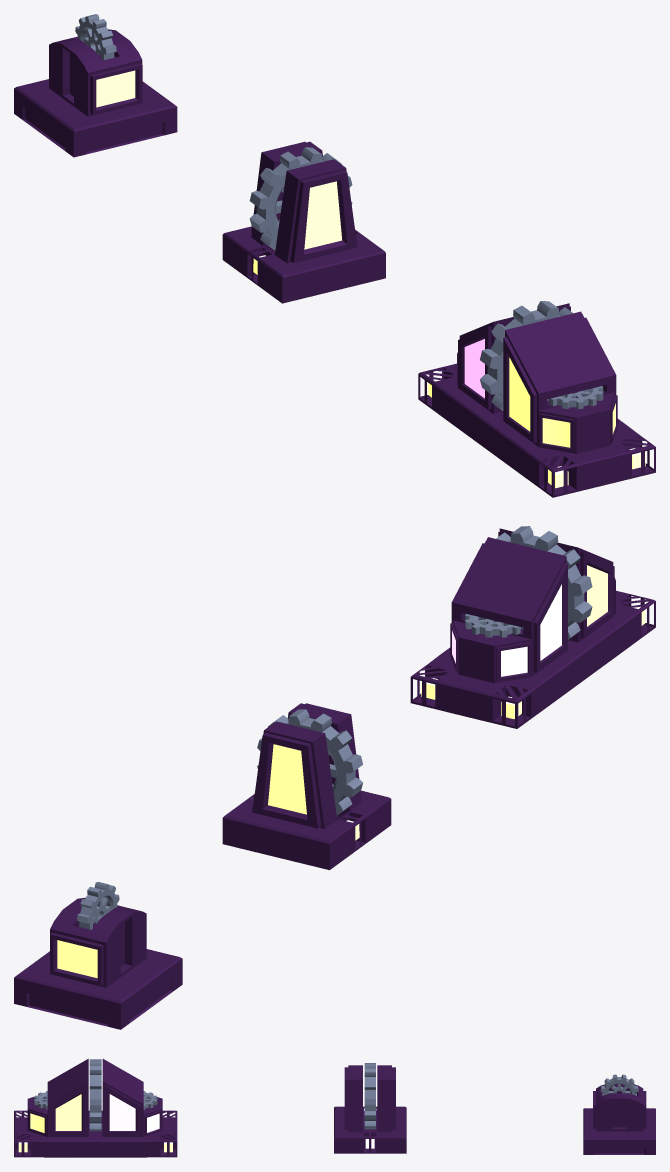
File: Generators_SET_V1.gltf
The picture shows the model from 3 angles, top to bottom: view 1: azimuth 30°, elevation 25°; view 2: azimuth 150°, elevation 25°; view 3: azimuth 270°, elevation 25°; orthographic projection. The views are drawn at different scales.
Visible parts, largest first — view 1: Gen_3, Gen_2, Gen_1; view 2: Gen_3, Gen_2, Gen_1; view 3: Gen_3, Gen_2, Gen_1.
Boxes of the visible parts, x1,y1,x2,y2 form: Gen_3: (418, 301, 655, 497); Gen_2: (222, 141, 385, 303); Gen_1: (14, 14, 177, 157); Gen_3: (410, 526, 655, 728); Gen_2: (222, 703, 391, 870); Gen_1: (14, 882, 182, 1029); Gen_3: (14, 1058, 177, 1157); Gen_2: (334, 1063, 406, 1153); Gen_1: (583, 1074, 655, 1154).
Size of the model in its own units: 0.8766 by 0.9595 by 7.07.
